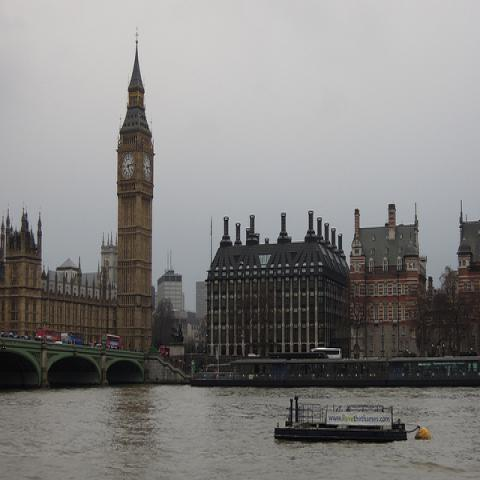bus: (310, 347, 342, 359), (37, 327, 59, 342), (106, 335, 120, 349)
